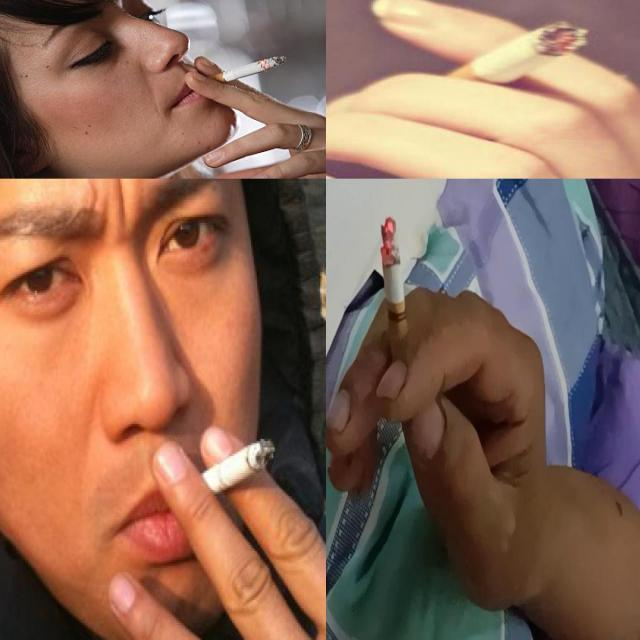smoke: (426, 18, 588, 88), (381, 215, 416, 402), (188, 432, 278, 497), (198, 55, 288, 85)
